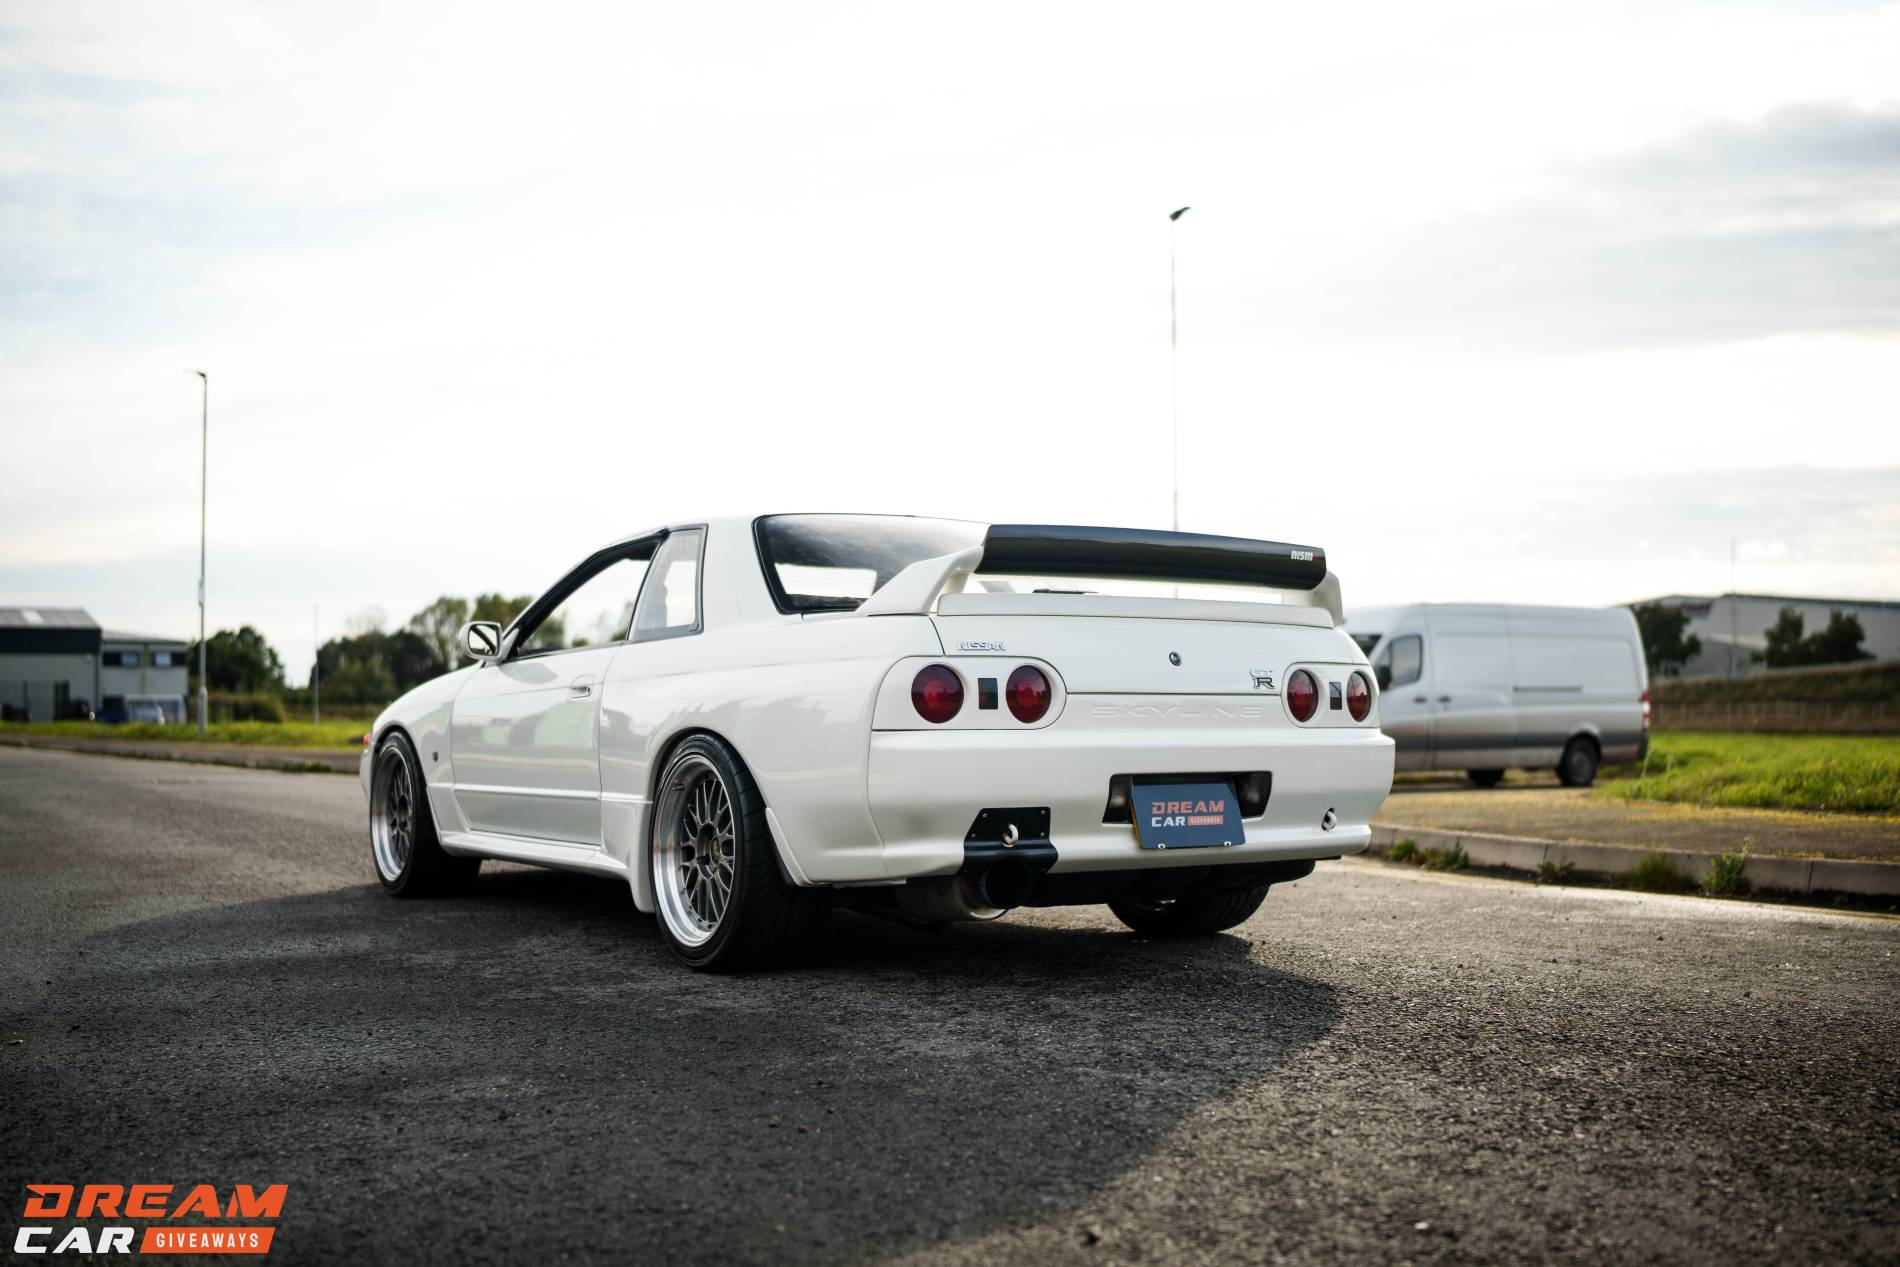car: (341, 495, 1401, 1015), (1326, 595, 1655, 790)
